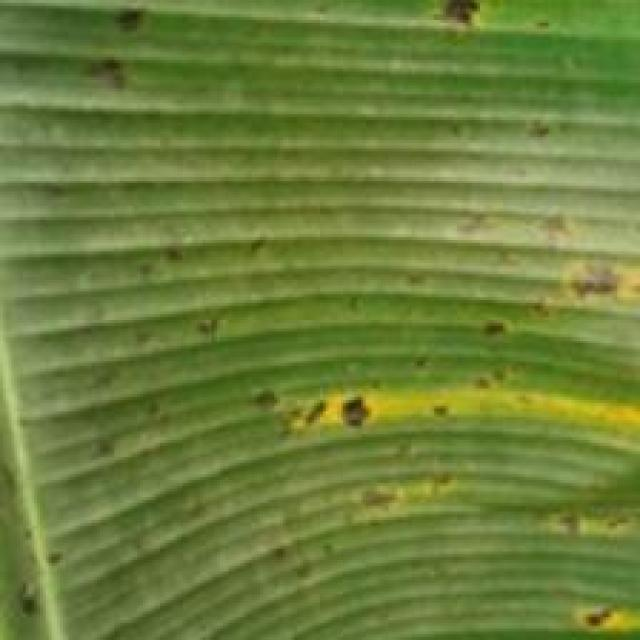Downey_mildrew: (245, 358, 640, 640), (85, 211, 298, 466), (380, 165, 638, 370), (48, 0, 206, 113), (380, 0, 514, 63)
